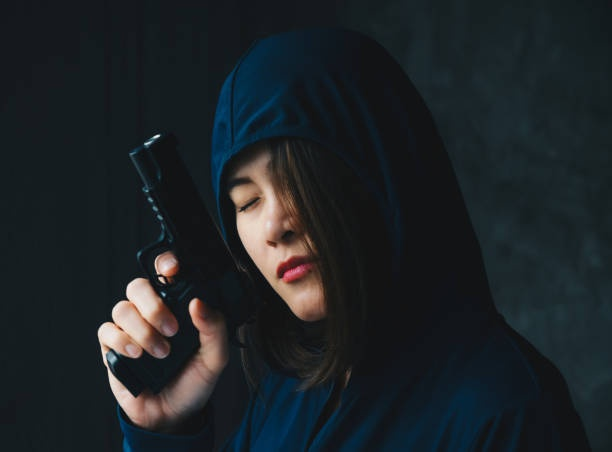person: (95, 12, 594, 452)
pistol: (101, 130, 230, 397)
